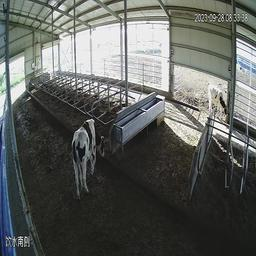cow: (68, 114, 113, 201), (207, 80, 227, 124)
